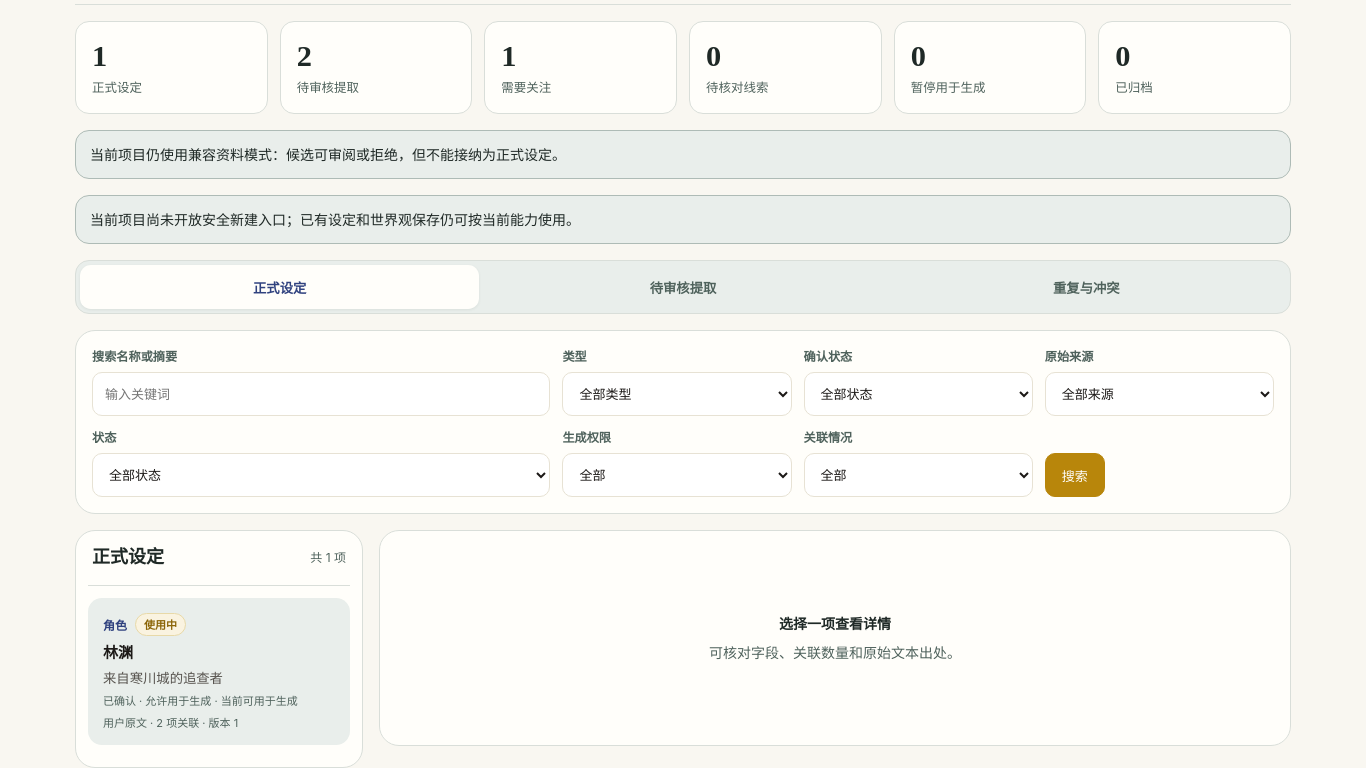
Test: LoreRepositoryPage › shows formal lore, source detail, and the read-only capability boundary
The width and height of the screenshot is (1366, 768).
(page scrolled)
Expected: the text "林渊" is shown, [103,641,133,662]
Expected: the text "当前项目仍使用兼容资料模式：候选可审阅或拒绝，但不能接纳为正式设定。" is shown, [75,130,1291,179]
Click the button "林渊" at coordinates (219, 671), box [88,598,350,745]
(page scrolled)
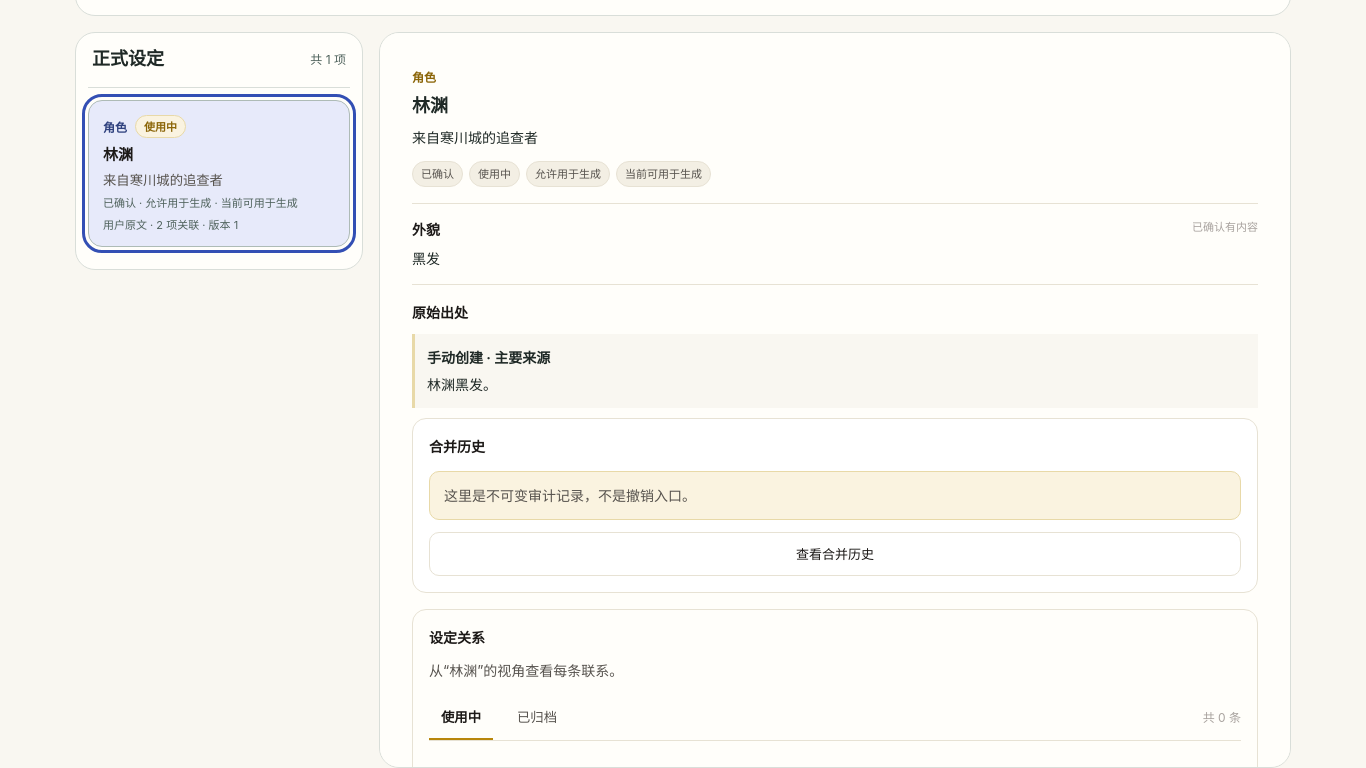
Expected: the text "黑发" is shown, [412,250,440,267]
Expected: the text "林渊黑发。" is shown, [427,376,497,393]
